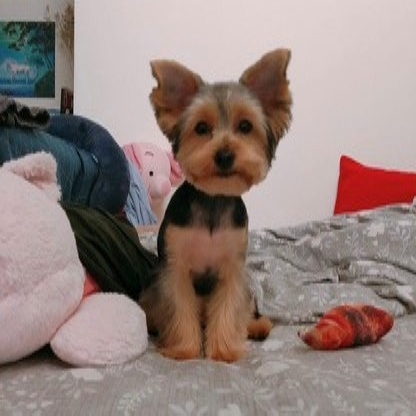yorkshire: (149, 46, 296, 366)
